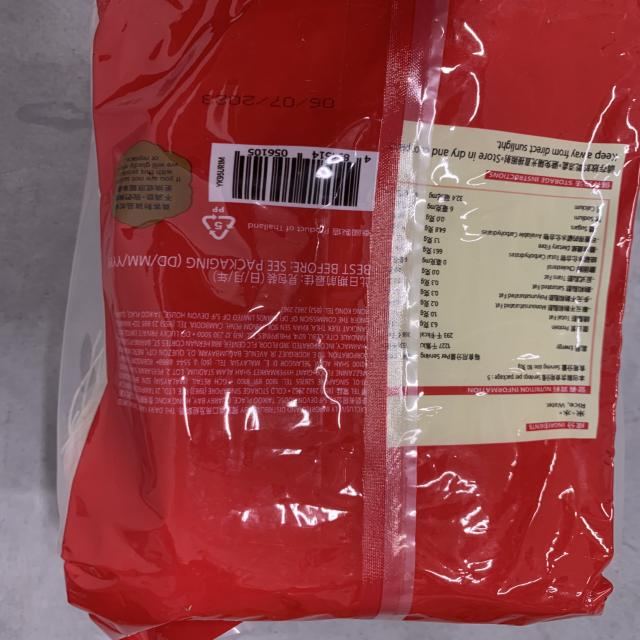object_name: (87, 7, 603, 618)
